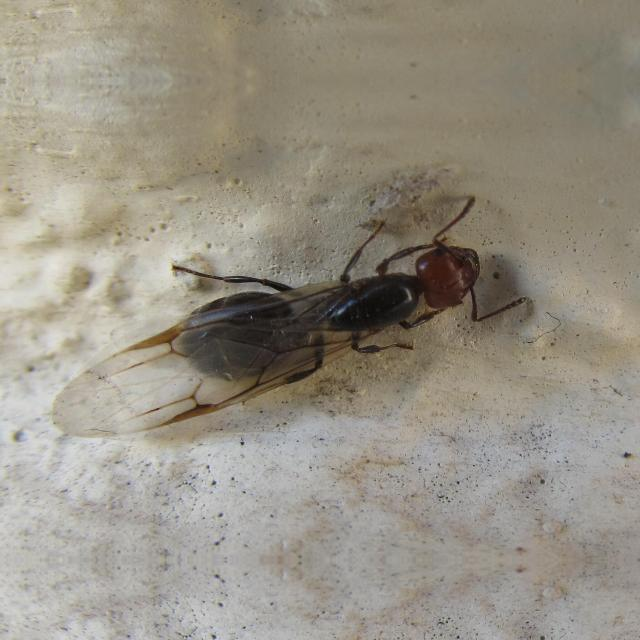Crematogaster: (102, 195, 504, 402)
